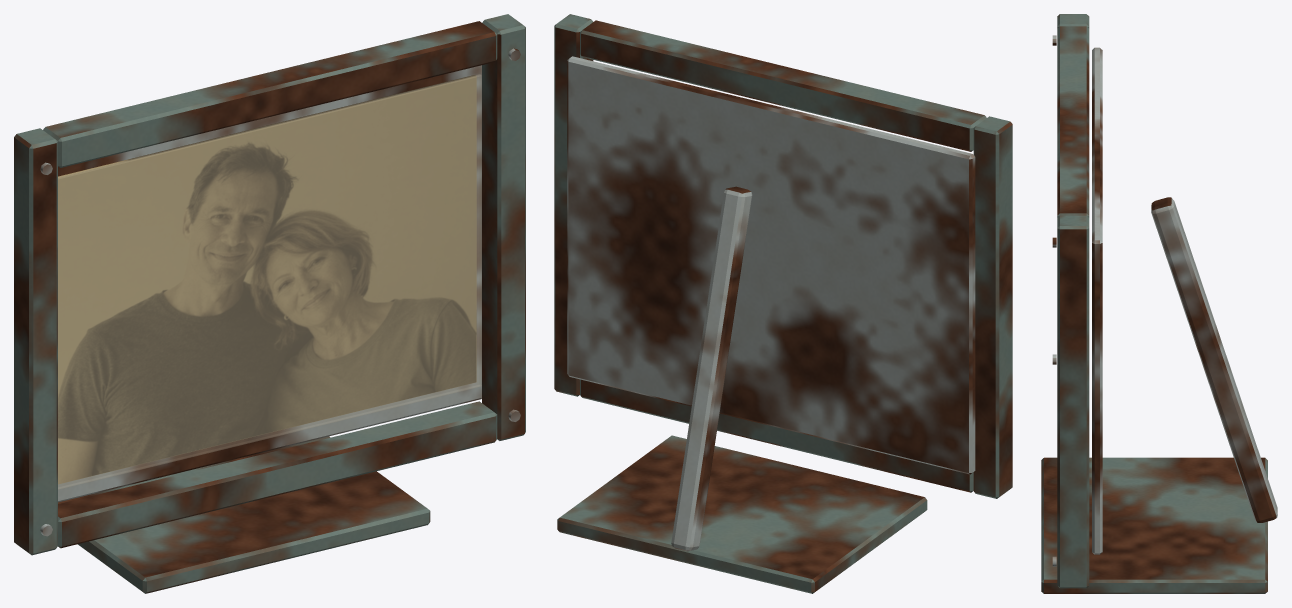
Rendered from photo_frame_aged.glb.
3 views of the same model, side by side, from view 1: azimuth 30°, elevation 25°; view 2: azimuth 150°, elevation 25°; view 3: azimuth 270°, elevation 25° (orthographic). The views are drawn at different scales.
Parts seen in each view (by area): view 1: GlassCover, PhotoPlate, BaseFoot, FrameTop, FrameBottom, FrameLeft, FrameRight, BackPlate; view 2: BackPlate, BaseFoot, FrameTop, FrameLeft, EaselLeg, FrameBottom, FrameRight; view 3: BaseFoot, FrameRight, EaselLeg, FrameTop, BackPlate, FrameLeft.
Part boxes in pixels (x1=…): GlassCover: x1=58, y1=74, x2=481, y2=489; PhotoPlate: x1=58, y1=75, x2=476, y2=484; BaseFoot: x1=58, y1=436, x2=430, y2=593; FrameTop: x1=43, y1=21, x2=497, y2=167; FrameBottom: x1=58, y1=401, x2=497, y2=548; FrameLeft: x1=14, y1=128, x2=57, y2=555; FrameRight: x1=482, y1=14, x2=525, y2=440; BackPlate: x1=58, y1=65, x2=481, y2=502; BackPlate: x1=567, y1=56, x2=975, y2=474; BaseFoot: x1=557, y1=435, x2=927, y2=593; FrameTop: x1=580, y1=20, x2=986, y2=151; FrameLeft: x1=973, y1=116, x2=1012, y2=498; EaselLeg: x1=671, y1=186, x2=752, y2=551; FrameBottom: x1=580, y1=379, x2=973, y2=492; FrameRight: x1=554, y1=14, x2=593, y2=396; BaseFoot: x1=1041, y1=457, x2=1267, y2=593; FrameRight: x1=1057, y1=215, x2=1089, y2=588; EaselLeg: x1=1151, y1=197, x2=1277, y2=522; FrameTop: x1=1057, y1=26, x2=1089, y2=217; BackPlate: x1=1092, y1=47, x2=1102, y2=554; FrameLeft: x1=1057, y1=14, x2=1089, y2=28.
Size of the model in its own units: 0.19 by 0.171 by 0.0887.
Materials: 4 (3 with a texture image).
